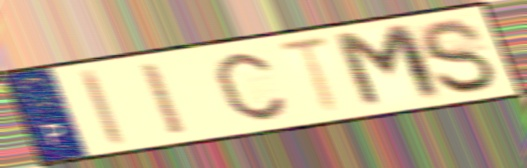C: (212, 50, 290, 123)
I: (137, 59, 192, 139), (76, 66, 129, 149)
M: (329, 21, 450, 113)
S: (416, 17, 500, 97)
T: (274, 34, 343, 118)
